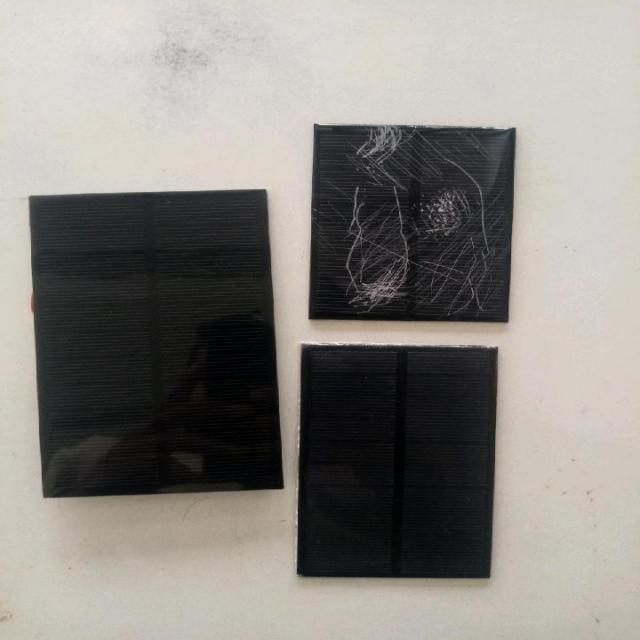faulty: (316, 127, 514, 333)
no faulty: (38, 192, 278, 506), (309, 350, 495, 582)
